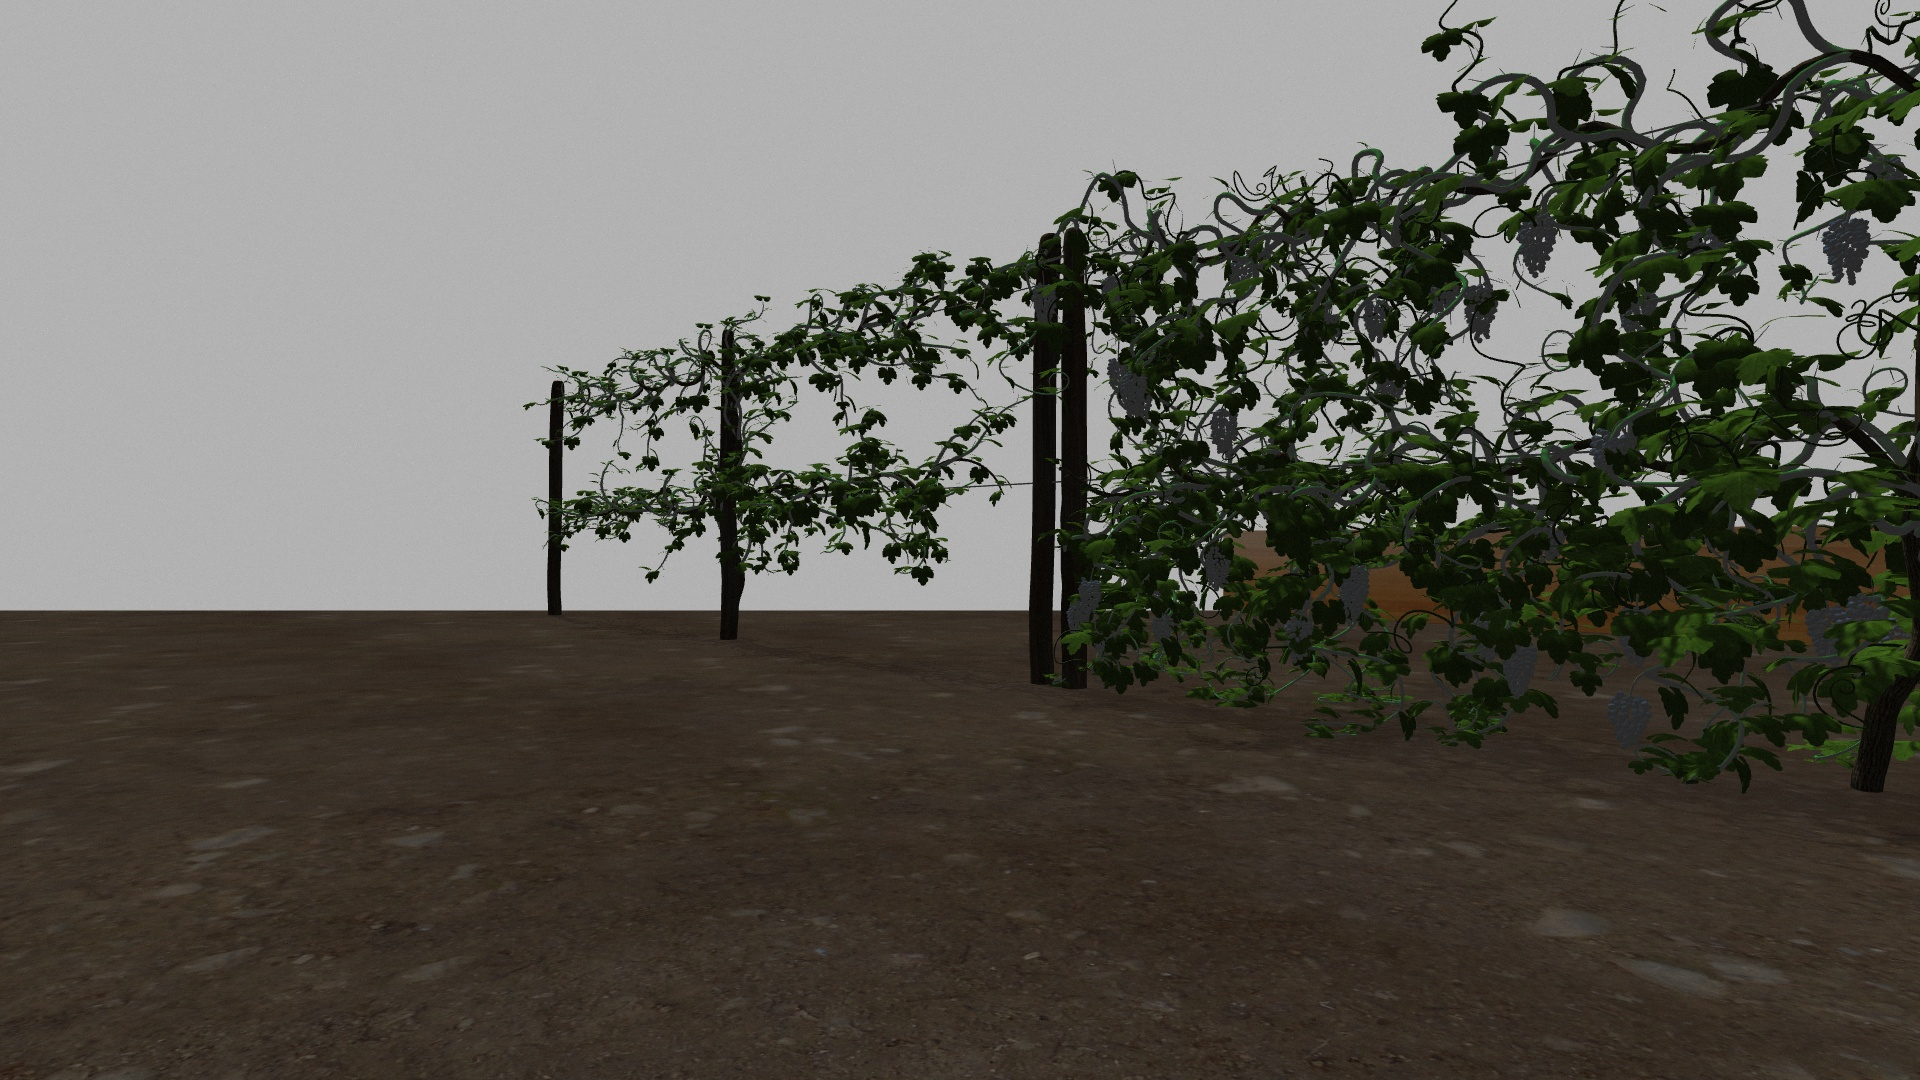grape: (1822, 218, 1874, 286), (1518, 211, 1557, 280), (1607, 692, 1654, 748), (1501, 638, 1539, 702), (1803, 608, 1845, 662), (1465, 284, 1499, 343), (1592, 434, 1640, 475), (1340, 564, 1371, 626), (1845, 593, 1888, 626), (1203, 545, 1232, 591), (1364, 301, 1393, 344), (1120, 375, 1149, 415), (1209, 409, 1236, 454), (1030, 286, 1058, 326), (1105, 357, 1131, 392), (1284, 616, 1315, 645), (1065, 600, 1091, 633), (1079, 578, 1102, 611), (1149, 613, 1174, 642)
